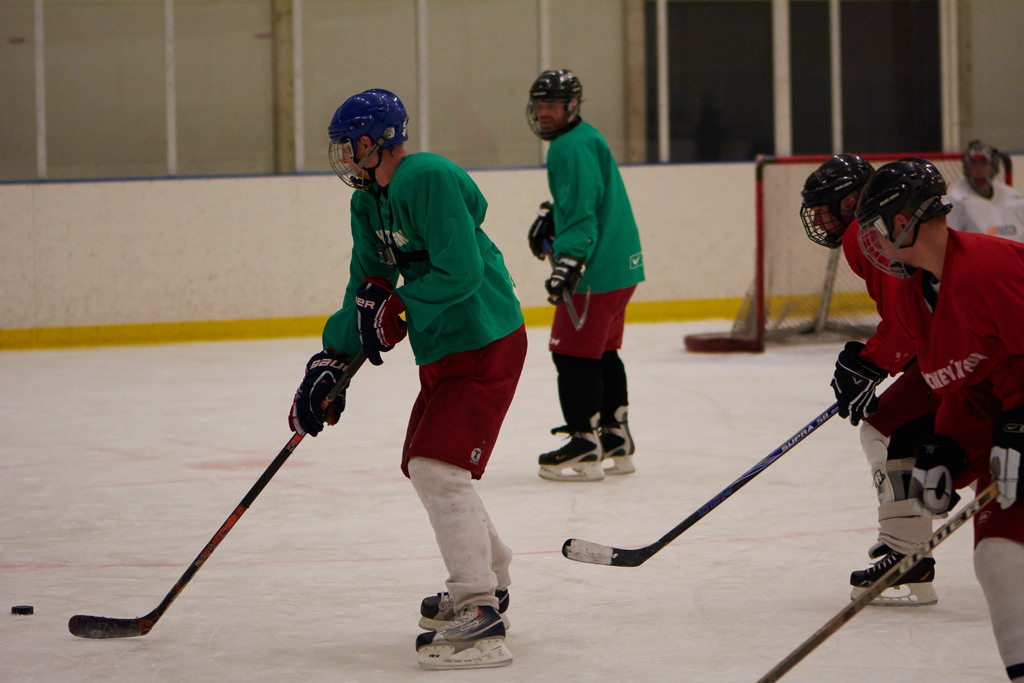Person: (288, 68, 1024, 683)
